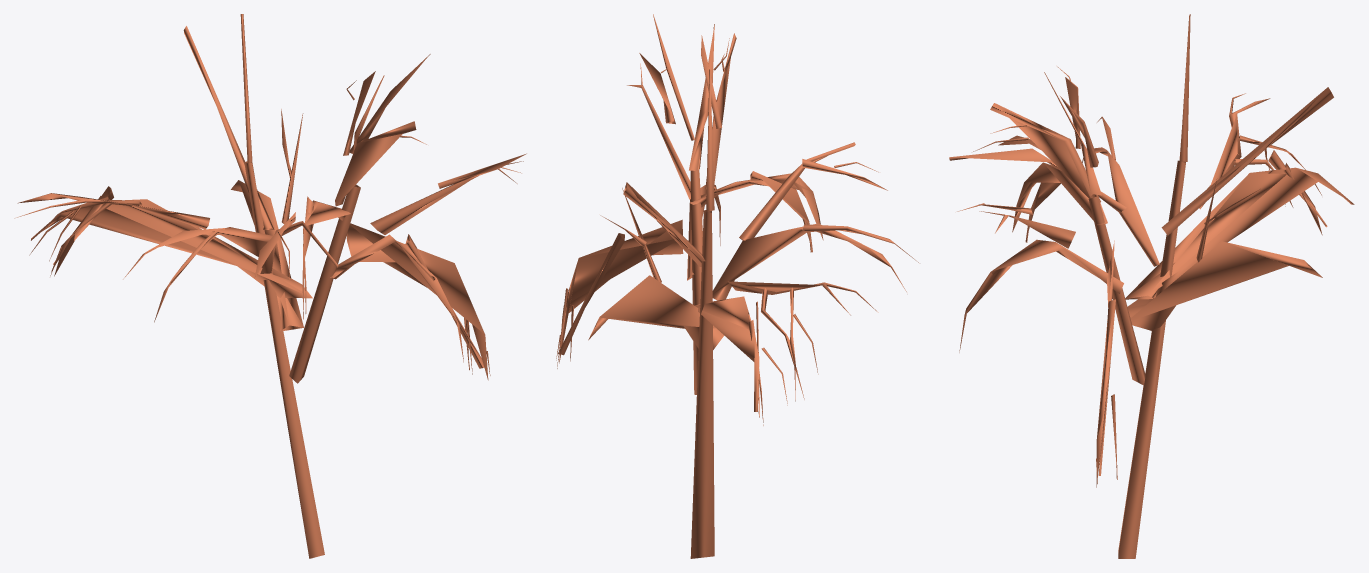
Rendered from drzewko_LOD2.fbx.
The picture shows the model from 3 angles, left to right: view 1: azimuth 30°, elevation 25°; view 2: azimuth 150°, elevation 25°; view 3: azimuth 270°, elevation 25°; orthographic projection.
Parts seen in each view (by area): view 1: Trunk.002; view 2: Trunk.002; view 3: Trunk.002.
Part boxes in pixels (left/top/right/bottom): Trunk.002: left=14, top=14, right=526, bottom=558; Trunk.002: left=556, top=14, right=919, bottom=558; Trunk.002: left=949, top=14, right=1354, bottom=558.
Size of what is drawn, in the model's own units: 695 by 787 by 986.
